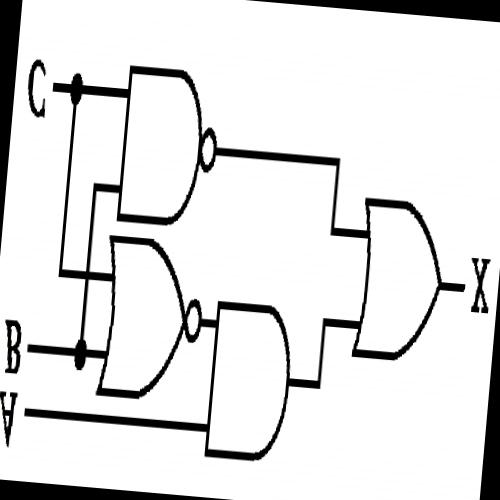and: (199, 292, 300, 470)
nand: (113, 55, 226, 231)
nor: (90, 227, 212, 412)
or: (347, 189, 450, 370)
